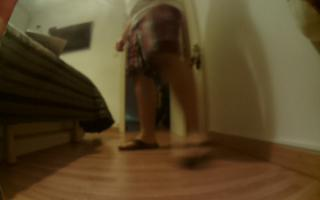person: (110, 1, 225, 171)
